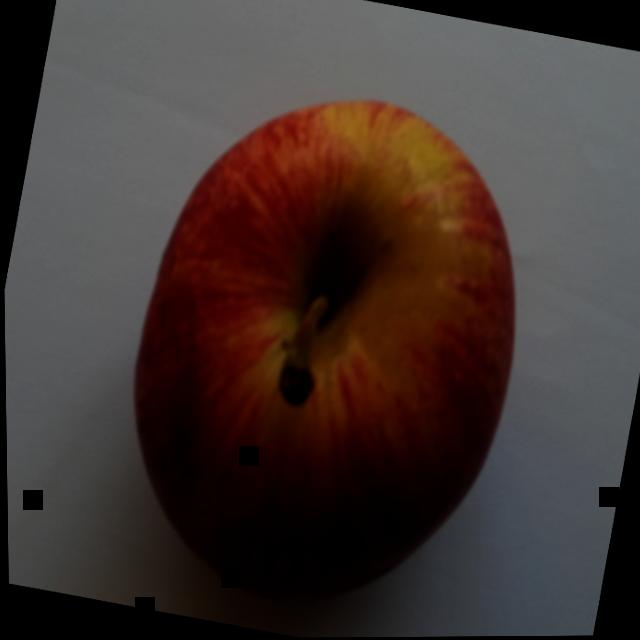Apple: (66, 45, 580, 640)
